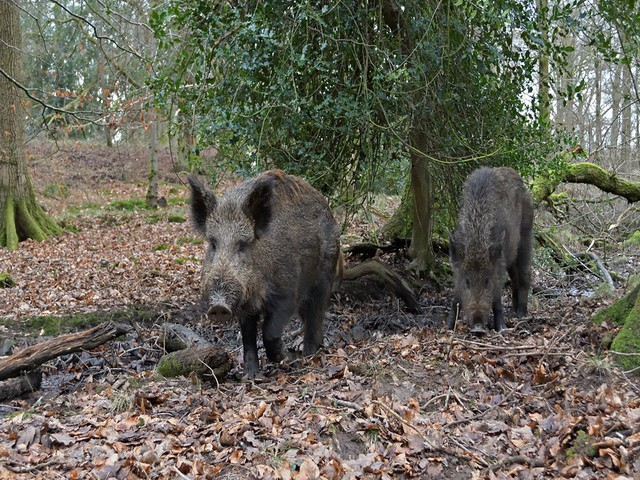Pig: (185, 172, 342, 360), (450, 162, 533, 327)
